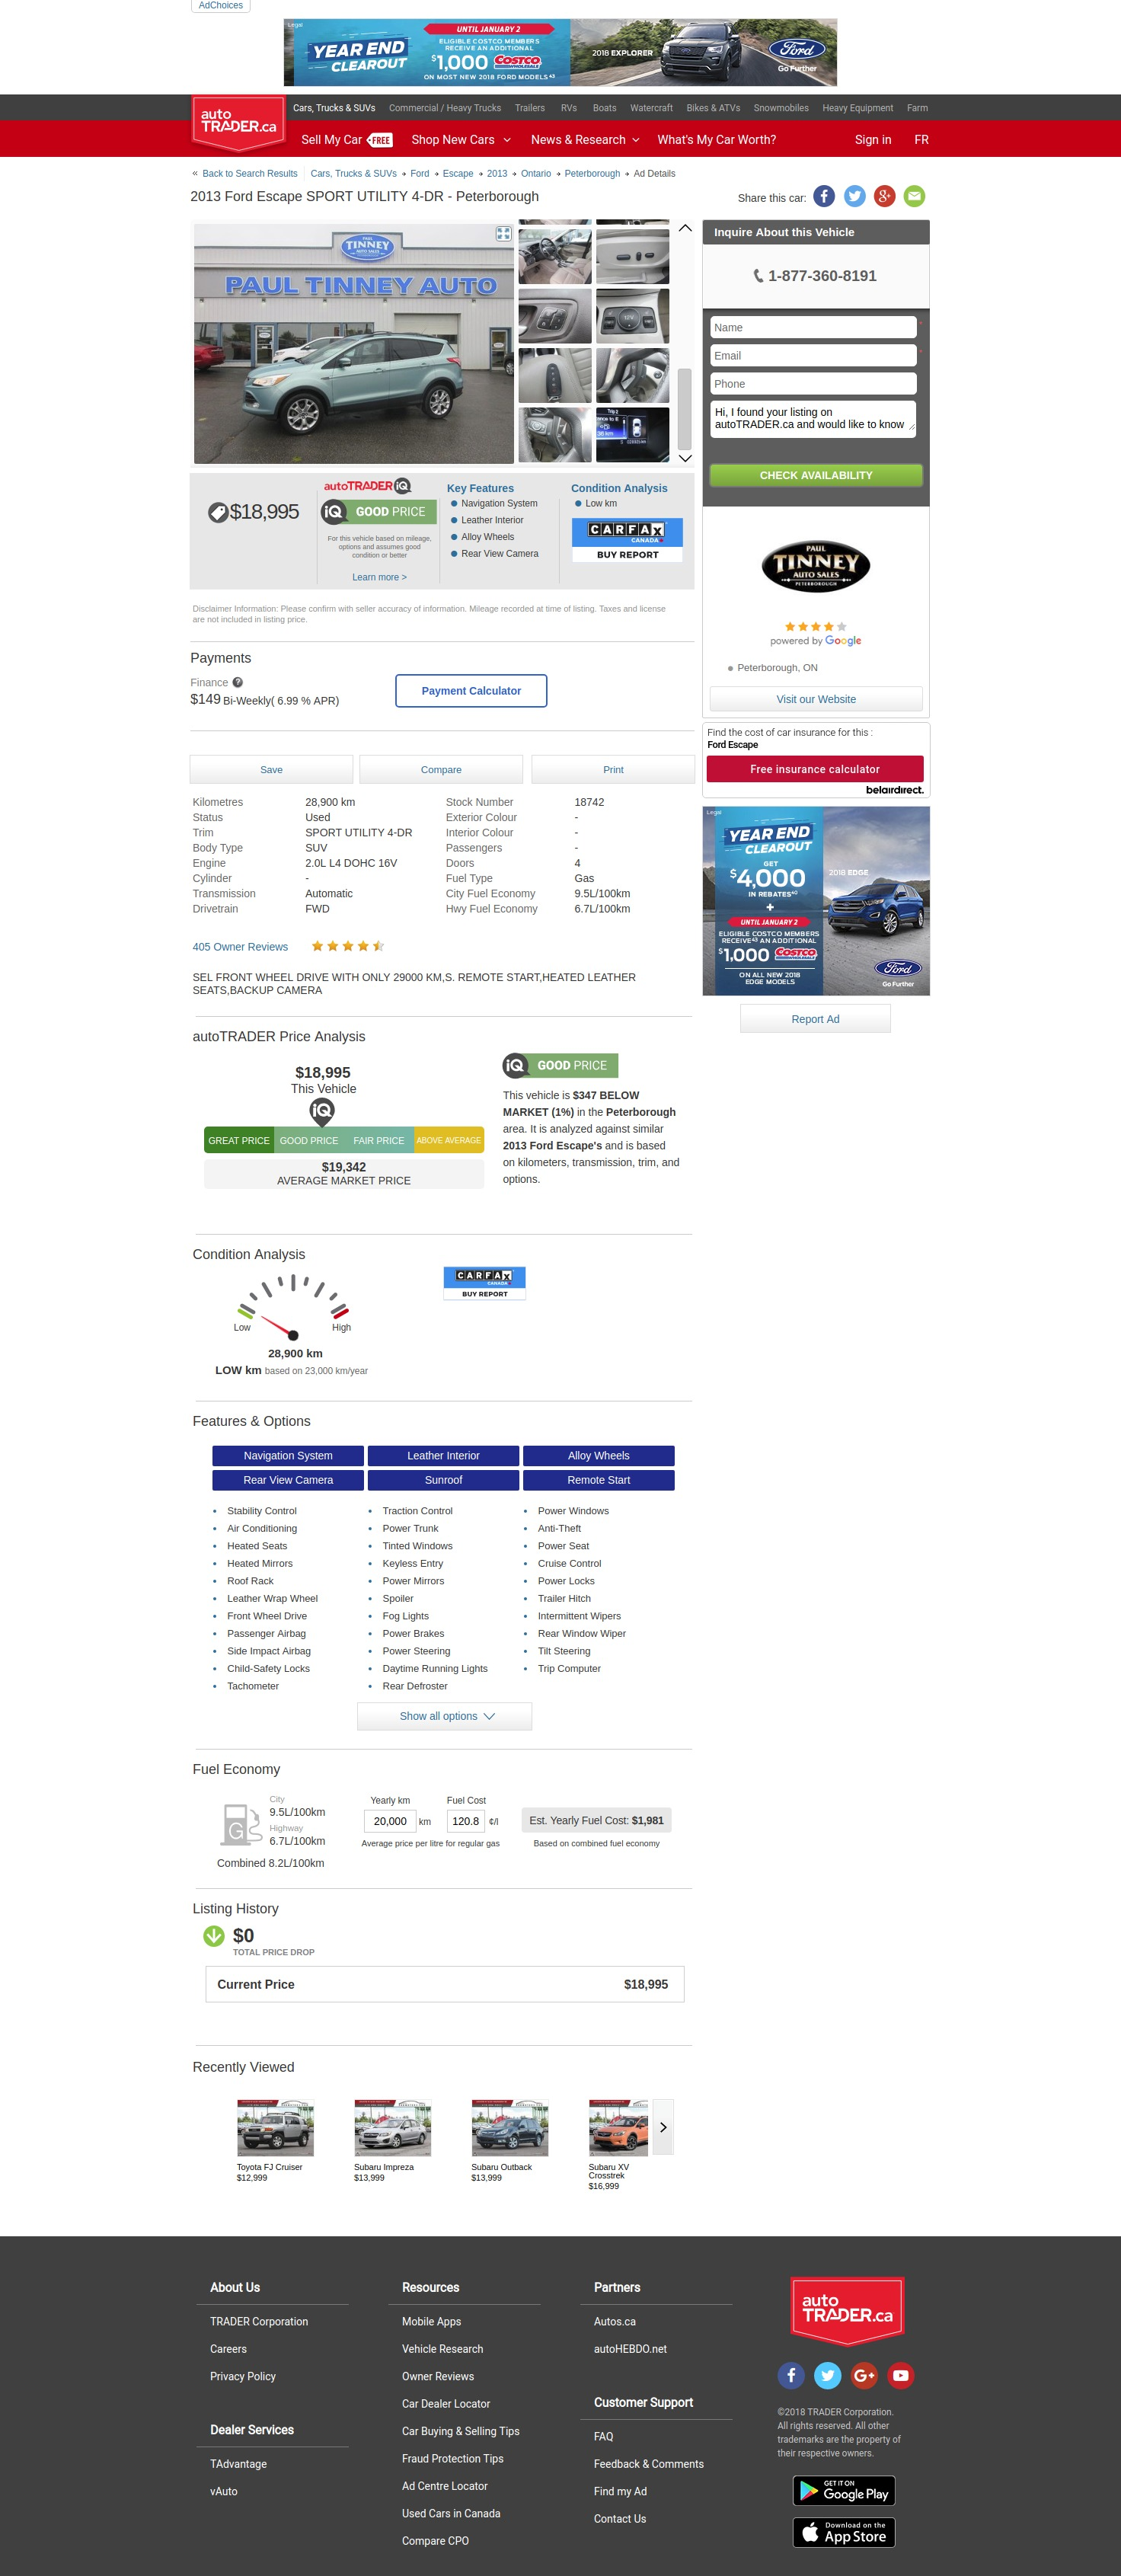car: (677, 453, 694, 463)
